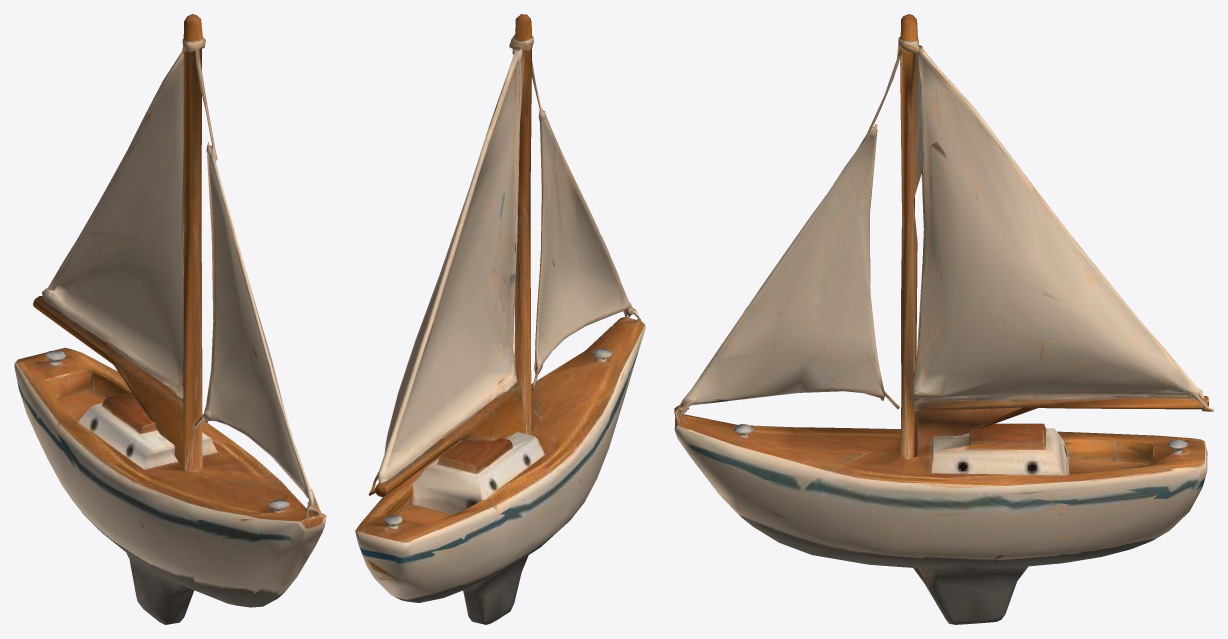
Rendered from sailboat.glb.
The picture shows the model from 3 angles, left to right: view 1: azimuth 30°, elevation 25°; view 2: azimuth 150°, elevation 25°; view 3: azimuth 270°, elevation 25°; orthographic projection. The views are drawn at different scales.
Visible parts, largest first — view 1: sailboat; view 2: sailboat; view 3: sailboat.
Boxes of the visible parts, x1,y1,x2,y2 form: sailboat: (14, 14, 326, 624); sailboat: (355, 14, 645, 624); sailboat: (674, 14, 1213, 624).
Bounding box in the file's own units: 1.05 × 4.96 × 4.
Materials: 1 (1 with a texture image).
